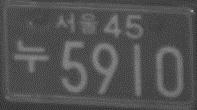0: (153, 46, 184, 100)
1: (124, 43, 151, 97)
4: (102, 13, 121, 40)
5: (60, 39, 89, 94), (124, 12, 144, 40)
9: (91, 41, 120, 95)
누: (12, 37, 49, 73)
서울_O: (55, 11, 100, 36)
